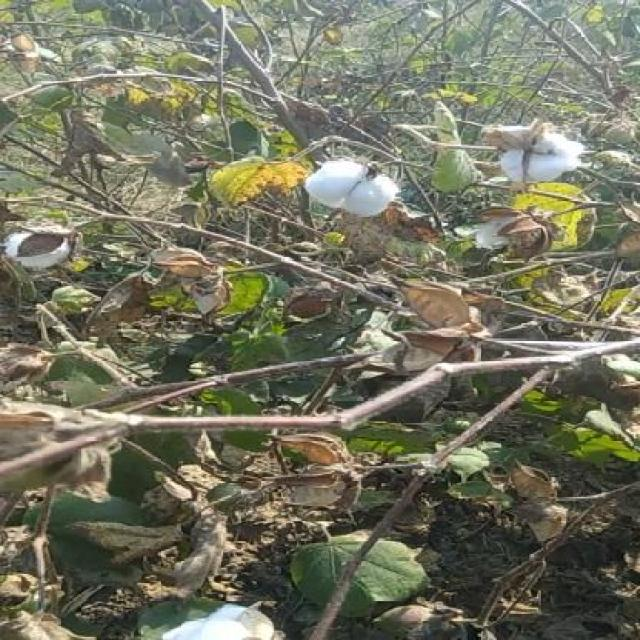cotton_ready: (250, 157, 452, 243), (474, 115, 588, 199)
